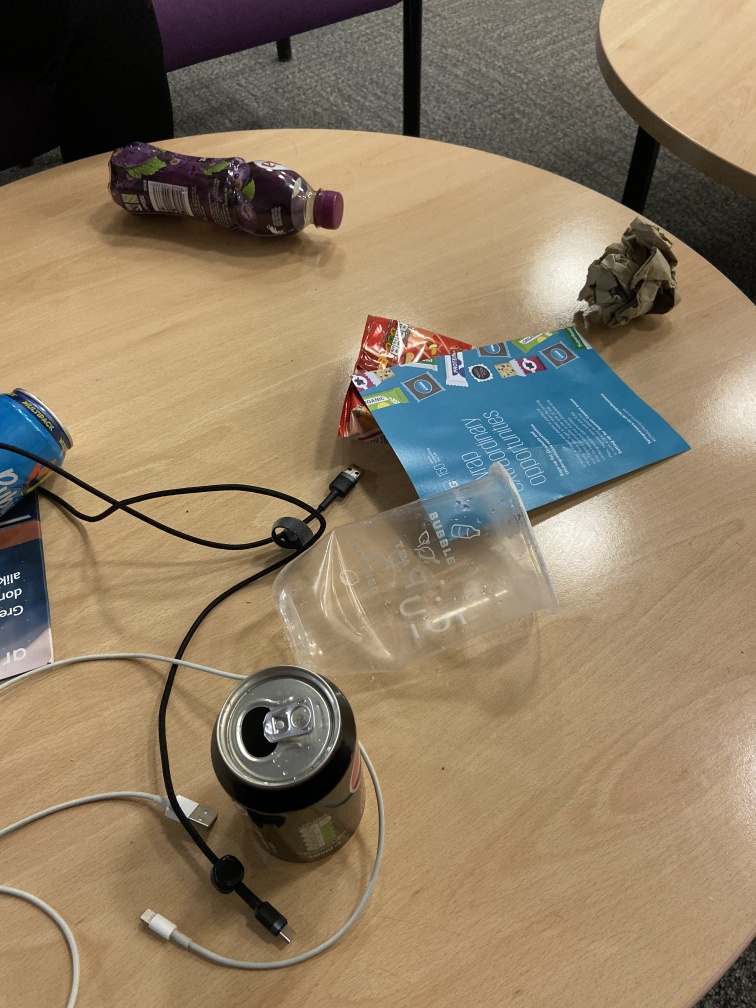bottle_purple: (104, 135, 351, 244)
can_black: (209, 662, 378, 866)
can_blue: (1, 379, 76, 513)
paper_brown: (565, 211, 686, 339)
